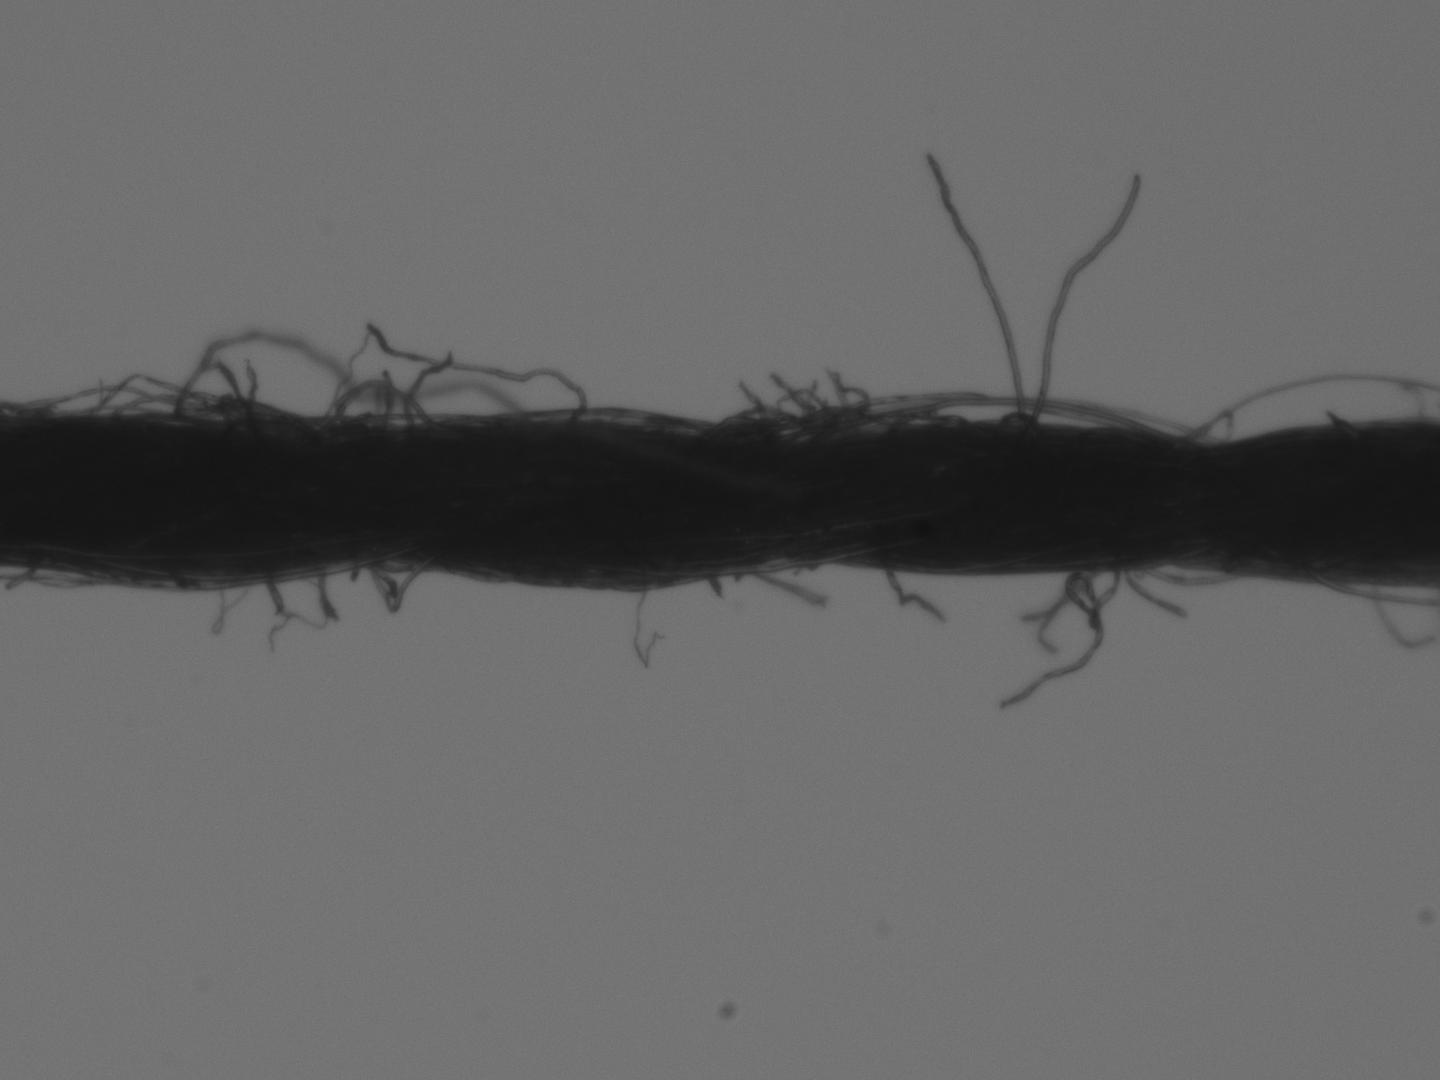loop_fiber: (322, 320, 585, 420), (825, 386, 1154, 438), (33, 380, 196, 421), (170, 360, 252, 427), (327, 378, 437, 427), (1062, 560, 1126, 632), (705, 407, 814, 442), (359, 555, 430, 608), (771, 381, 837, 424), (1134, 563, 1231, 591)
protruding_fiber: (913, 142, 1040, 425), (739, 562, 838, 621)
